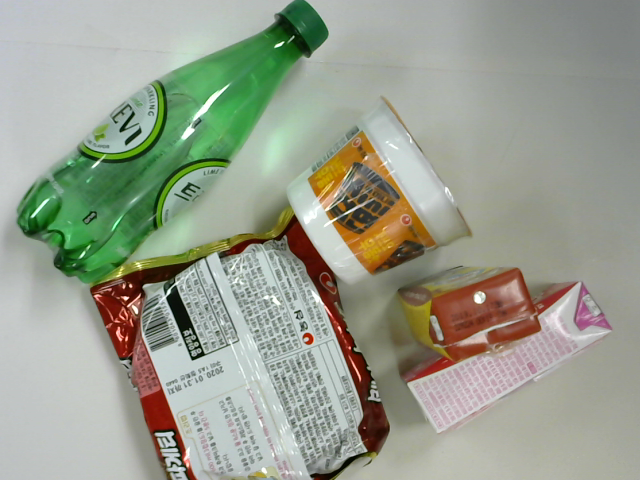Choco_E_Mong: (401, 257, 539, 357)
Sichuan_Chapaghetti: (119, 232, 379, 480)
Strawberry_E_Mong: (397, 280, 599, 449)
Treviraim_500ml: (32, 23, 298, 264)
Udongmini: (299, 97, 469, 268)
